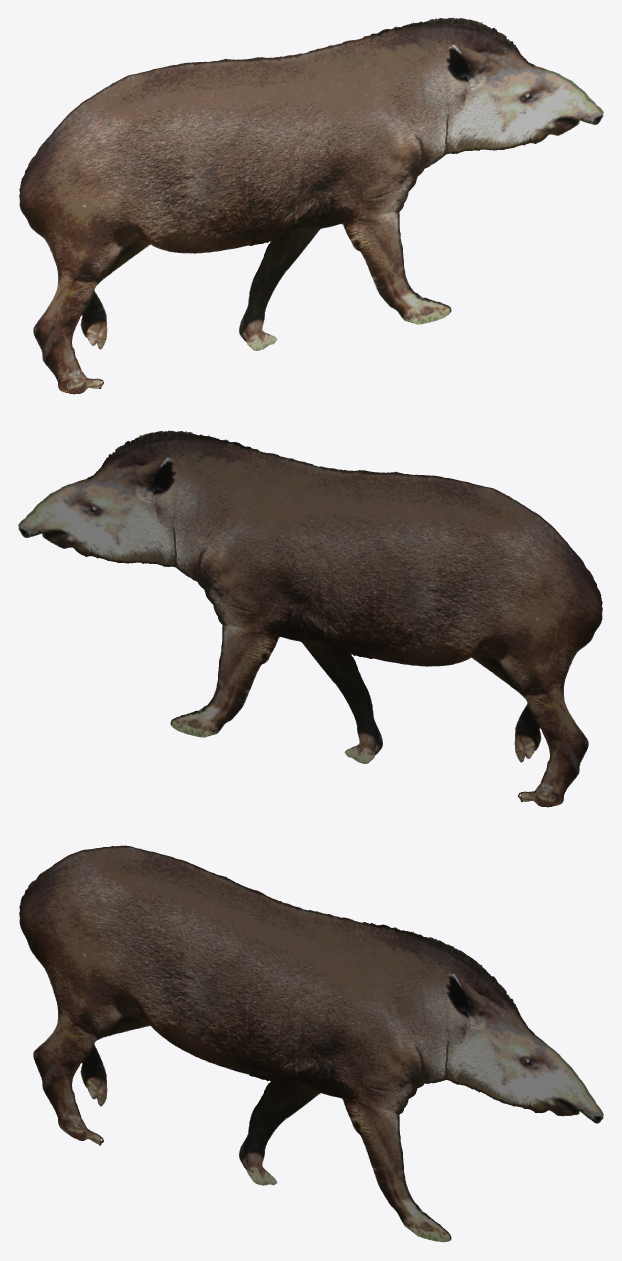
Rendered from chigui.fbx.
3 renders of one model, top to bottom at view 1: azimuth 30°, elevation 25°; view 2: azimuth 150°, elevation 25°; view 3: azimuth 330°, elevation 25°, orthographic.
Parts seen in each view (by area): view 1: DANTA; view 2: DANTA; view 3: DANTA.
Part boxes in pixels (box(x1,y1,x2,y2)): DANTA: box(19, 17, 603, 394); DANTA: box(18, 430, 602, 807); DANTA: box(19, 845, 603, 1242).
Bounding box in the file's own units: 9.84 × 5.23 × 0.
Materials: 1 (1 with a texture image).
